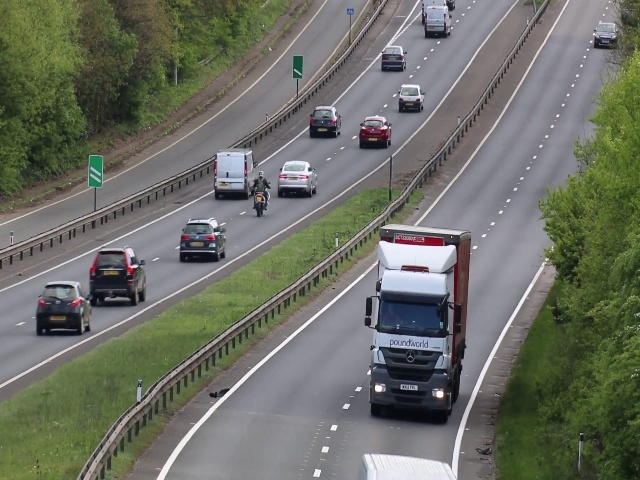car: (368, 222, 463, 424), (33, 278, 94, 335), (90, 246, 145, 306), (179, 214, 227, 261), (214, 148, 252, 196), (276, 159, 318, 196), (308, 102, 343, 139), (358, 113, 393, 148), (398, 82, 423, 113), (425, 7, 451, 36), (593, 20, 617, 48), (382, 45, 405, 72)
